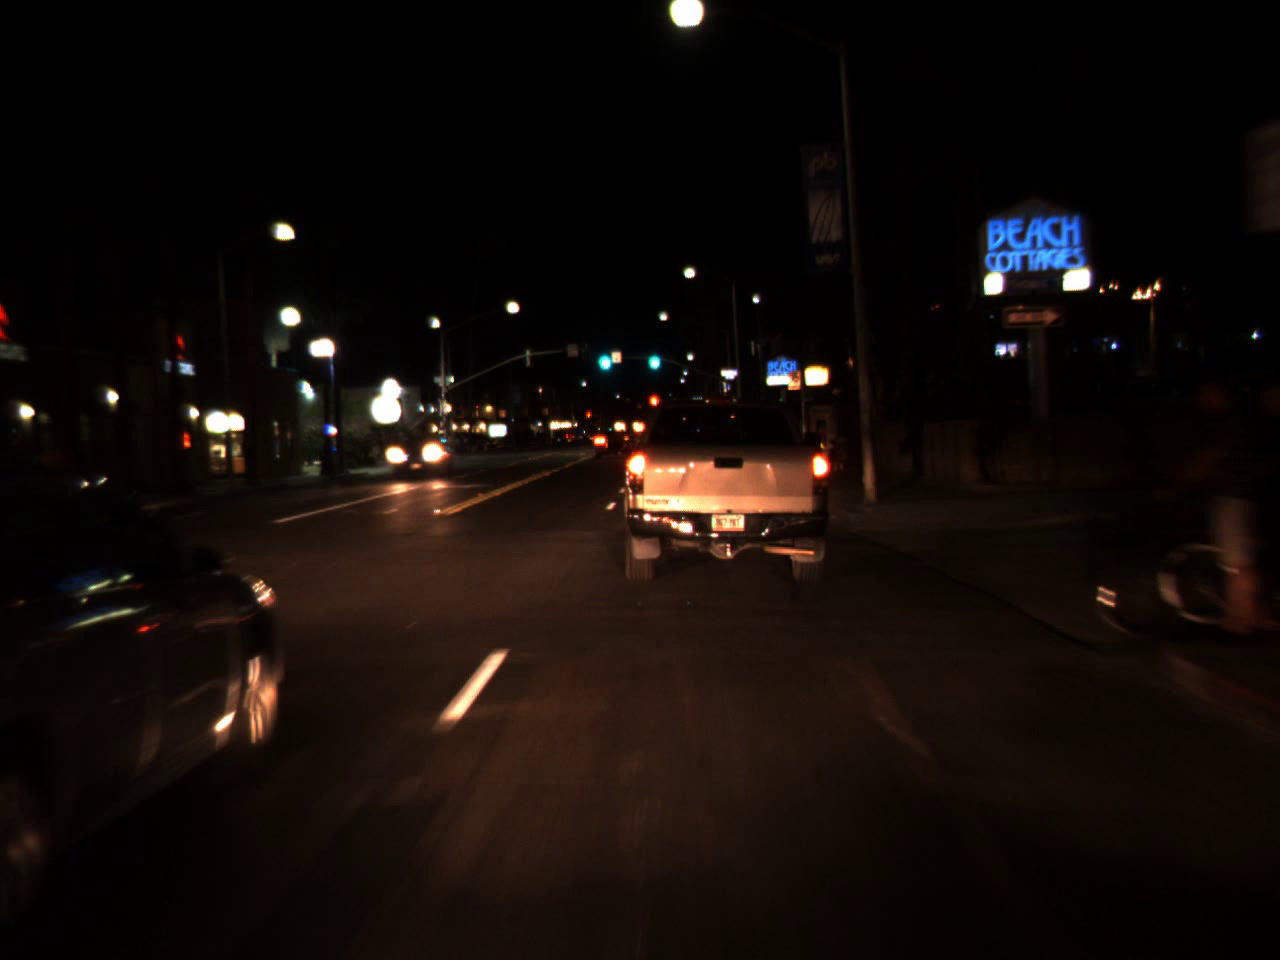go: (592, 336, 615, 375), (645, 340, 663, 373)
